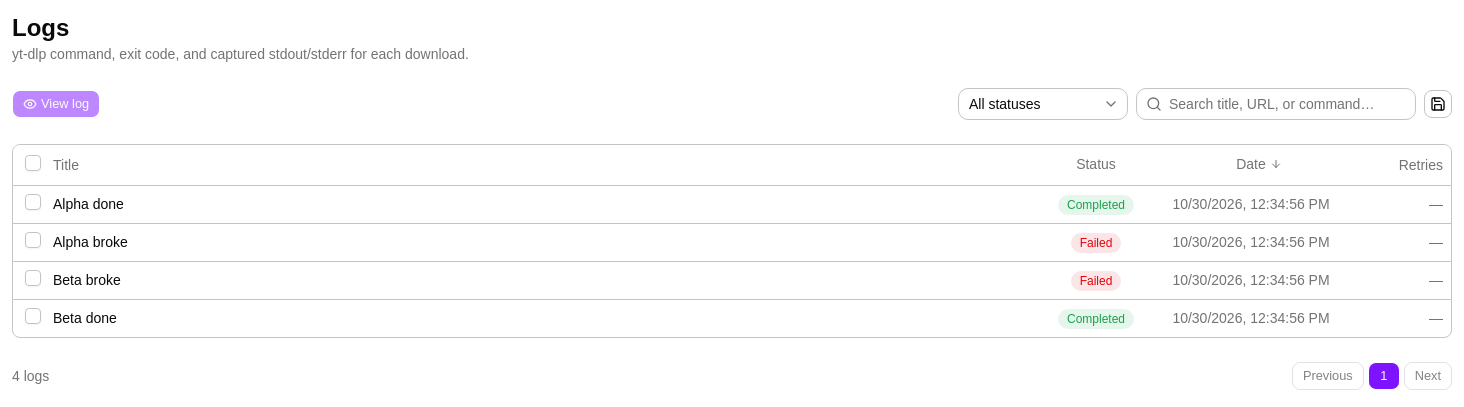
LogsPage table › filters by status, combined with the search
Expected: the text "Alpha done" is shown, [53,196,124,212]
Click the dropdown: [1043, 104] box [958,88,1128,120]
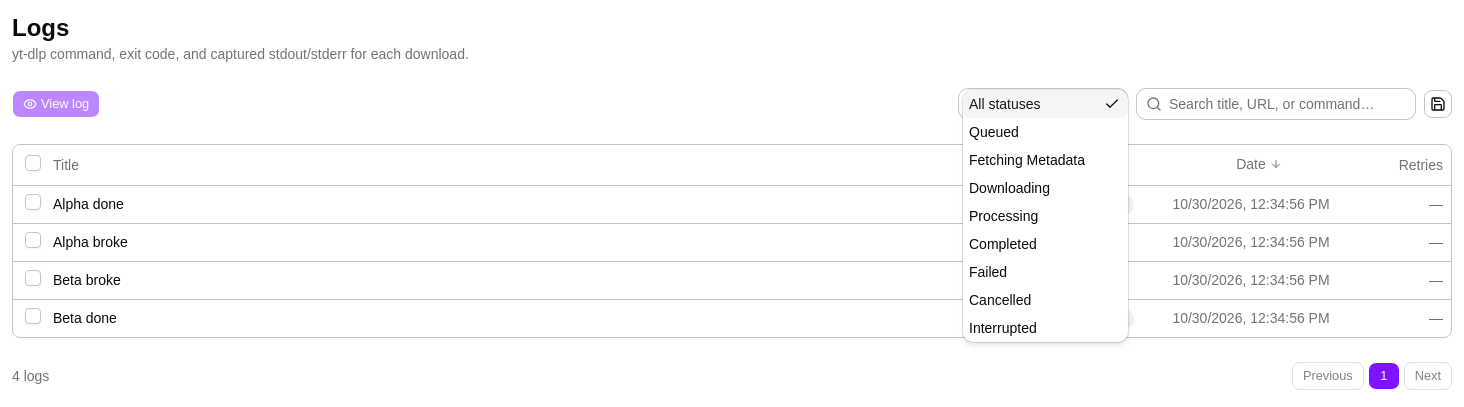
Click the option "Failed": [988, 272] box [969,264,1007,280]
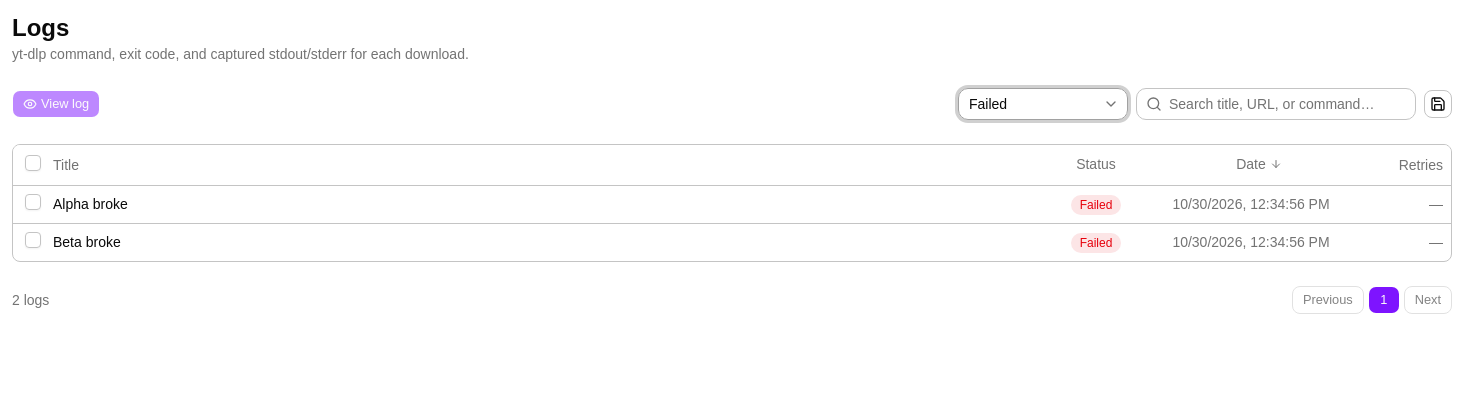
Expected: the text "Alpha done" is gone
Expected: the text "2 logs" is shown, [12,290,49,310]
In the field with placeholder "Search title, URL, or command…": [1276, 104] box [1136,88,1416,120], type "beta"
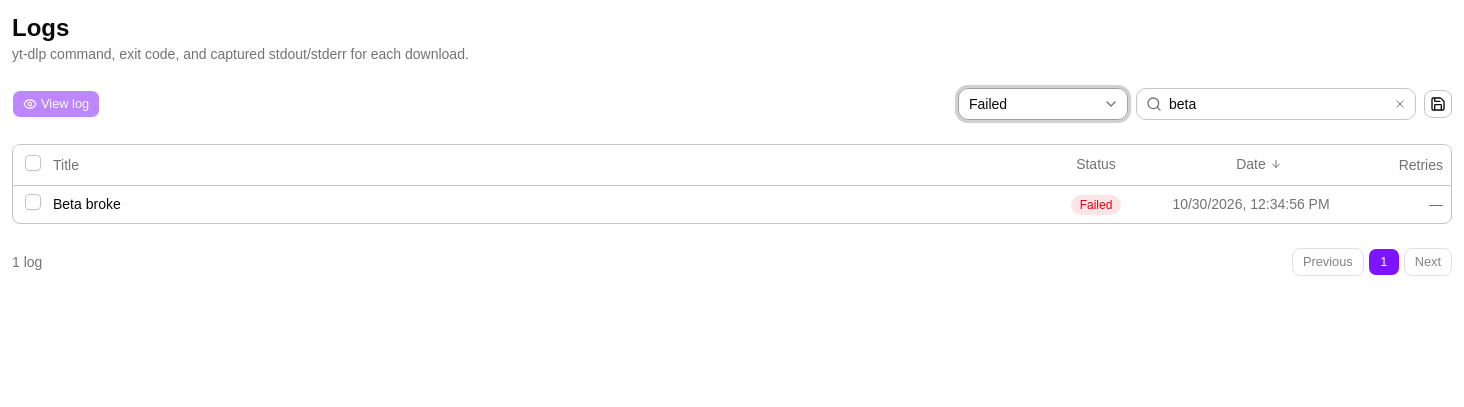
Expected: the text "Beta broke" is shown, [53,196,121,212]
Expected: the text "Alpha broke" is gone
Expected: the text "1 log" is shown, [12,252,42,272]
Click the dropdown: [1043, 104] box [958,88,1128,120]
(page scrolled)
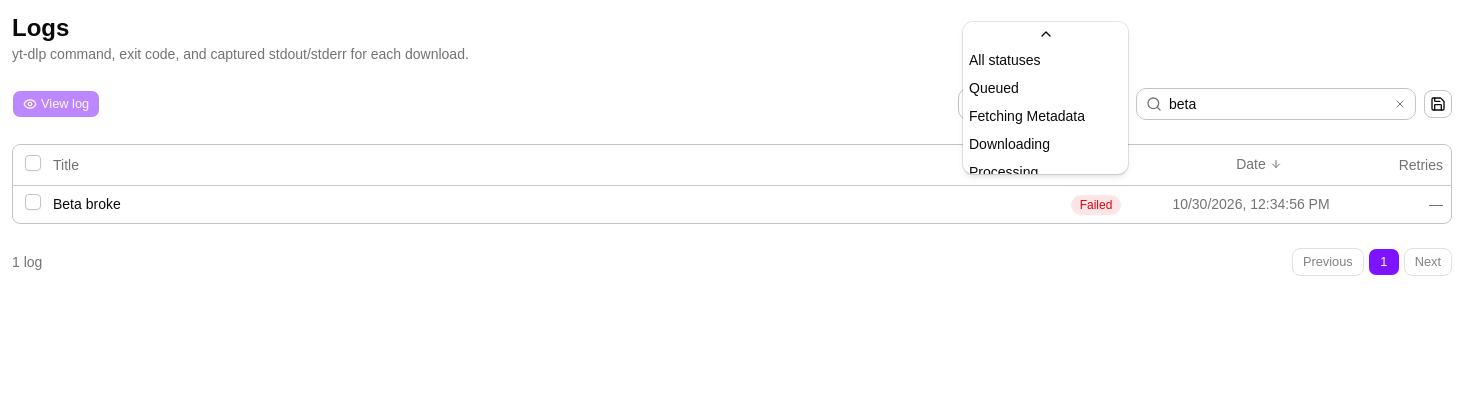
Click the option "All statuses": [1005, 60] box [969,52,1041,68]
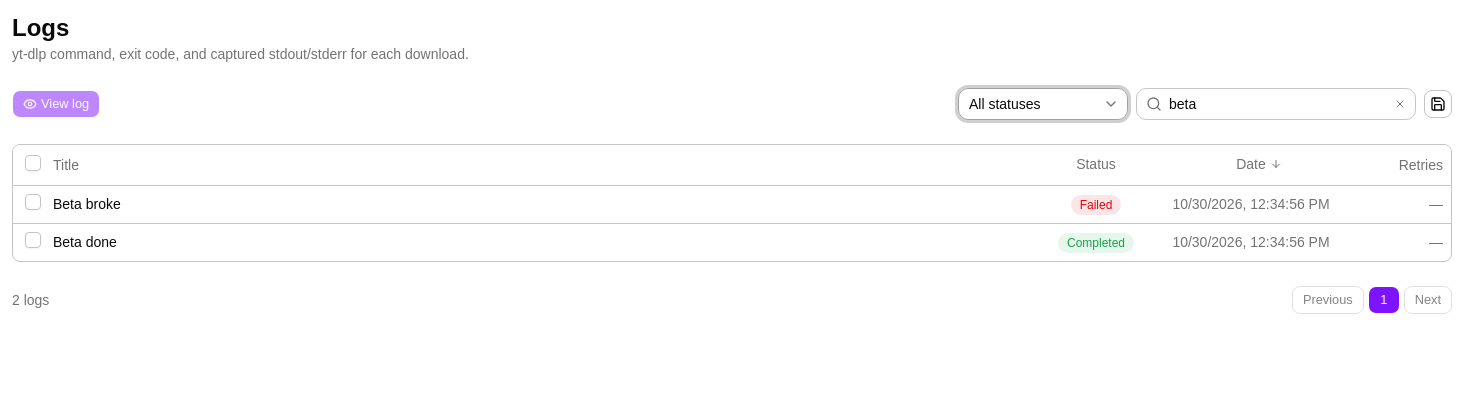
Expected: the text "Alpha done" is not shown
Expected: the text "Beta done" is shown, [53,234,117,250]
Expected: the text "2 logs" is shown, [12,290,49,310]
